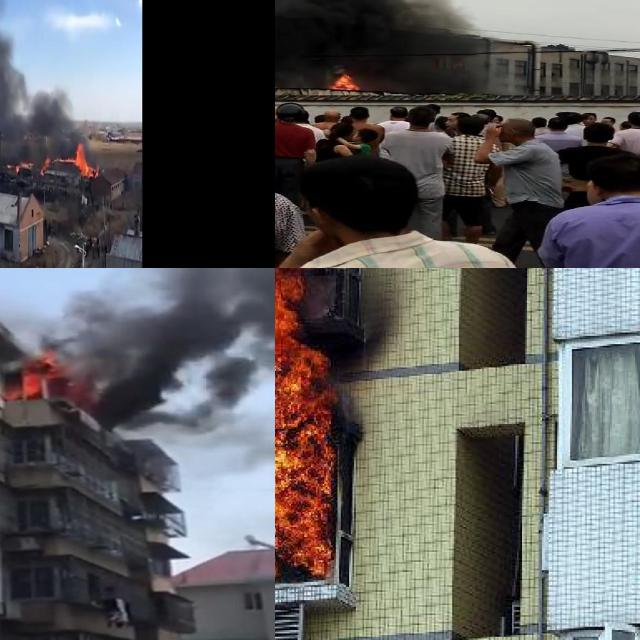fire: (8, 351, 66, 399), (36, 140, 98, 172), (73, 143, 95, 176), (326, 72, 359, 90)
smoke: (53, 268, 275, 448), (275, 0, 470, 80), (0, 0, 25, 148), (27, 86, 72, 148)
